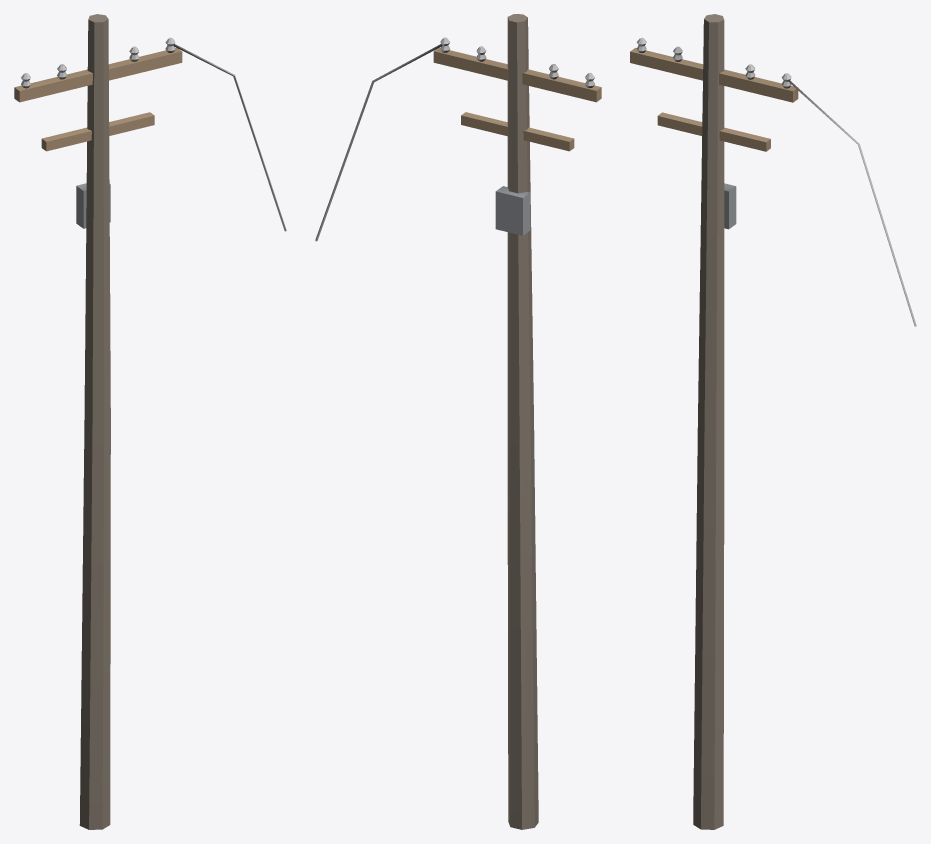
The model's file is power_pole.glb.
3 renders of one model, left to right at view 1: azimuth 30°, elevation 25°; view 2: azimuth 150°, elevation 25°; view 3: azimuth 330°, elevation 25°, orthographic.
Parts seen in each view (by area): view 1: power_pole; view 2: power_pole; view 3: power_pole.
Part boxes in pixels (<box>): power_pole: <box>14,14,286,829</box>; power_pole: <box>315,14,601,829</box>; power_pole: <box>630,14,916,829</box>.
Bounding box in the file's own units: 3.06 × 8.5 × 0.33.
